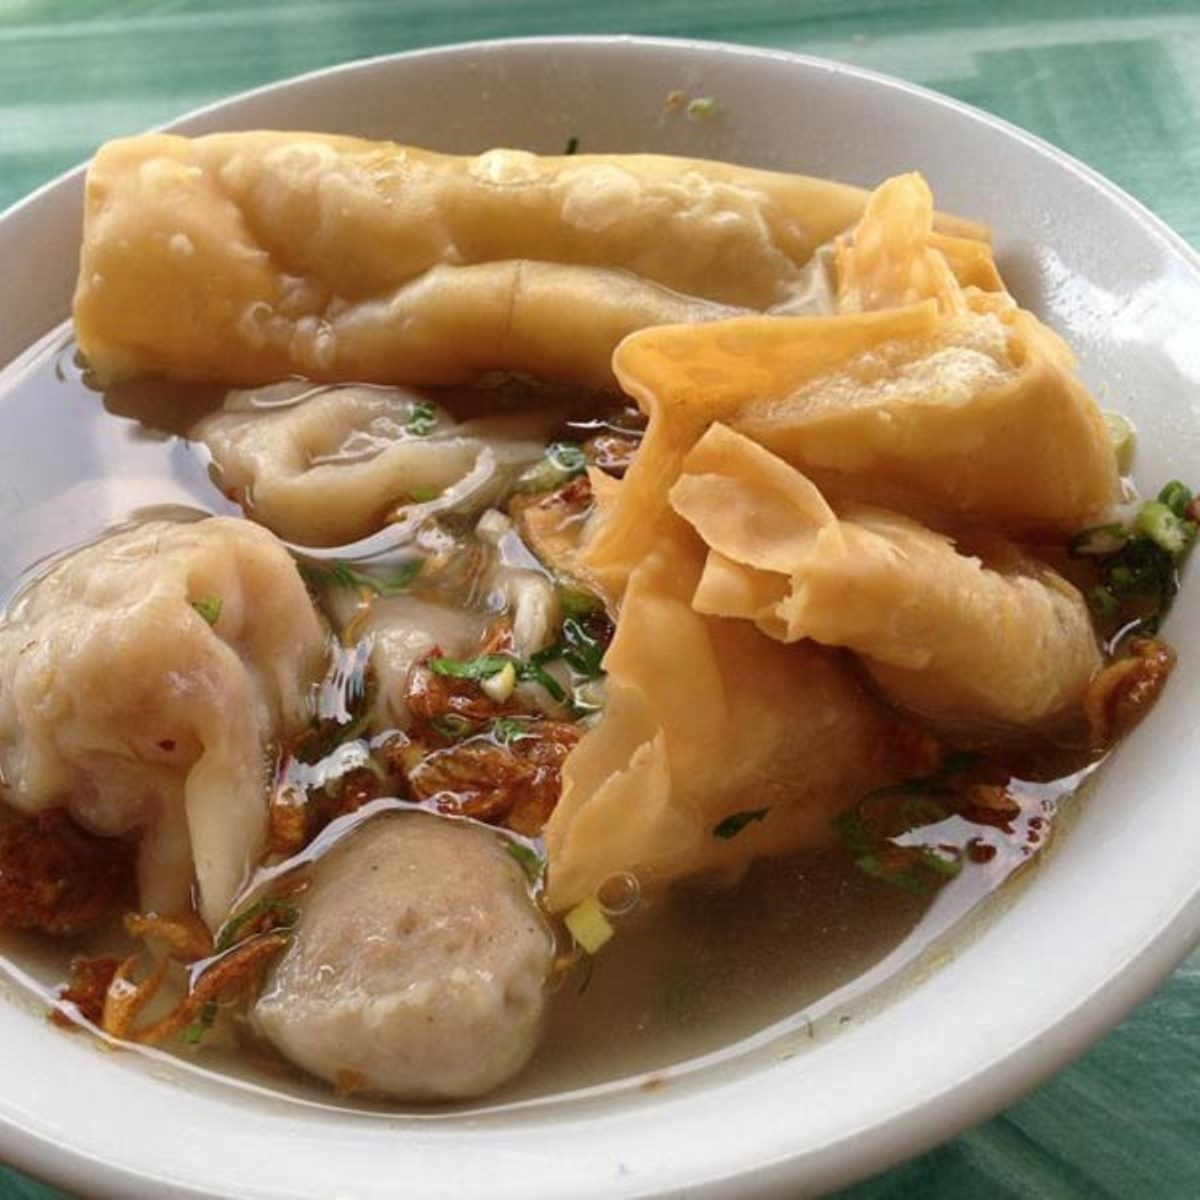bakso_malang: (1, 127, 1200, 1103)
